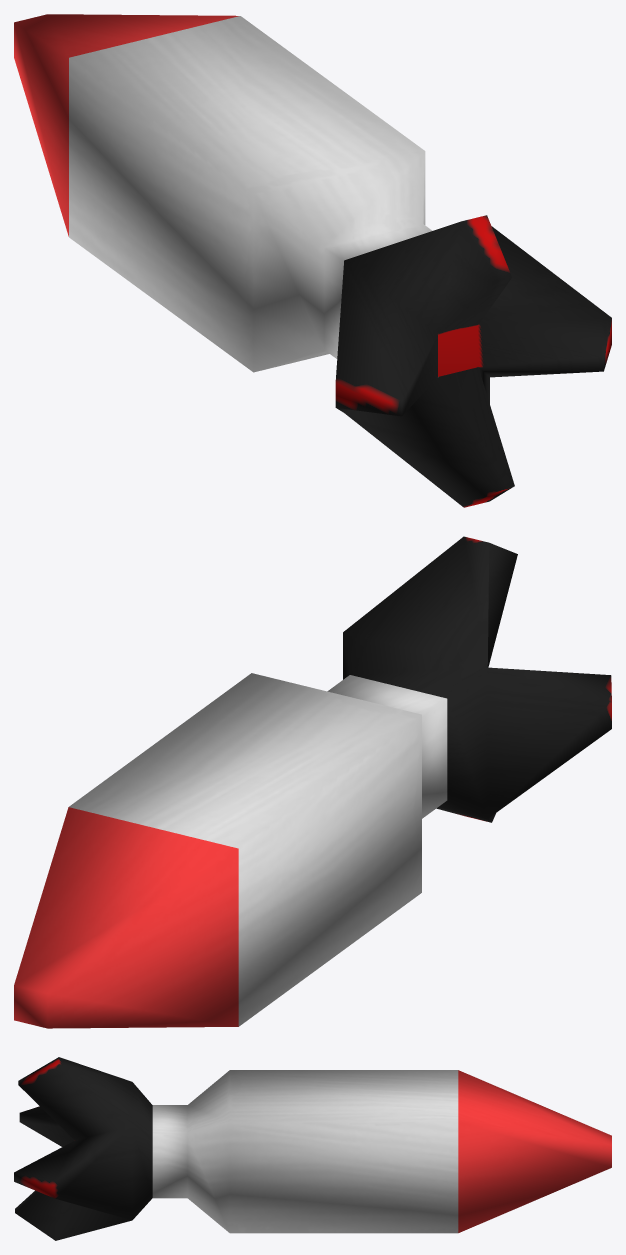
File: Rocket.fbx
3 views of the same model, one above another, from view 1: azimuth 30°, elevation 25°; view 2: azimuth 150°, elevation 25°; view 3: azimuth 270°, elevation 25° (orthographic). The views are drawn at different scales.
Visible parts, largest first — view 1: Cube; view 2: Cube; view 3: Cube.
Boxes of the visible parts, <box> form: Cube: <box>14,14,611,507</box>; Cube: <box>14,536,611,1028</box>; Cube: <box>14,1057,611,1240</box>.
Bounding box in the file's own units: 0.554 × 0.5541 × 1.7.
1 material, 1 textured.
